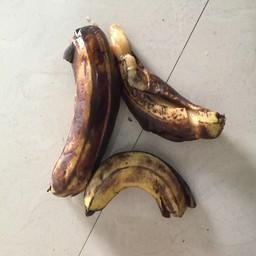Bad_banana: (110, 15, 237, 145), (46, 19, 110, 201), (81, 152, 198, 226)
